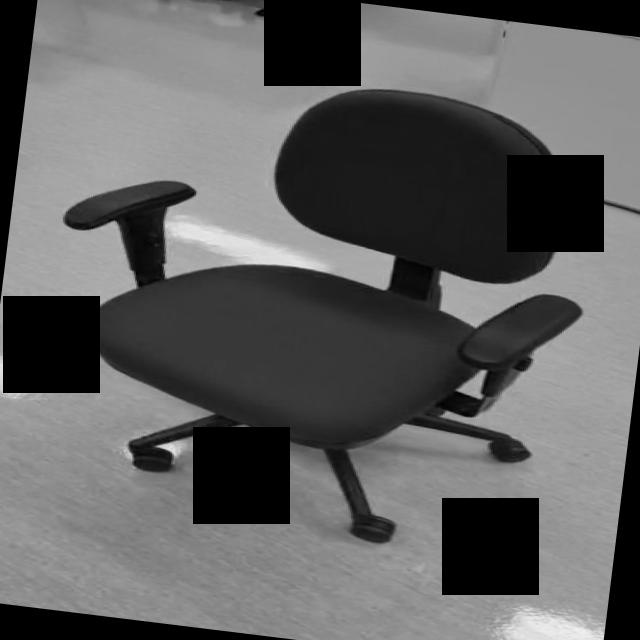cadeira-azul: (31, 51, 609, 563)
